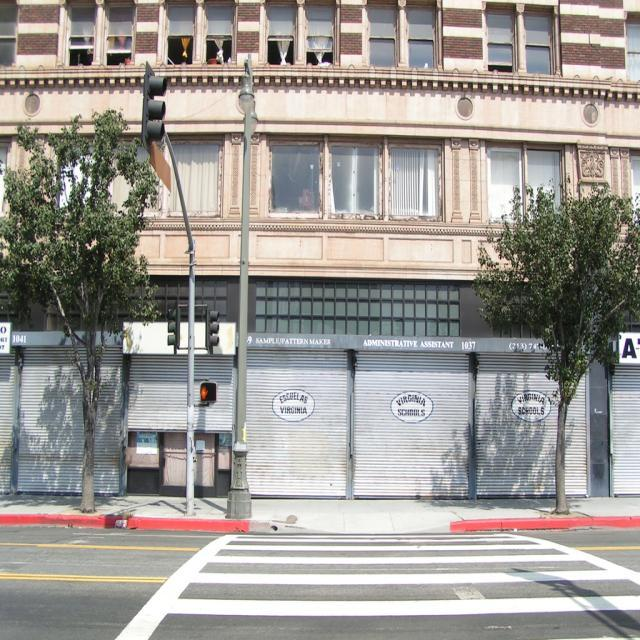off traffic light: (143, 68, 166, 145), (206, 306, 220, 346), (166, 308, 180, 344)
